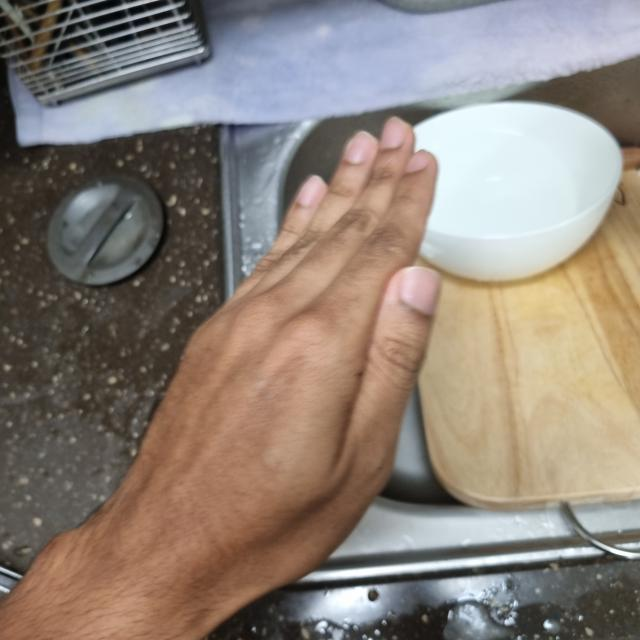Paper: (107, 120, 443, 608)
